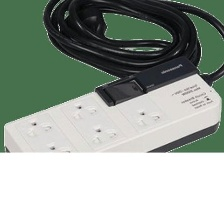three_eye_plug: (2, 53, 223, 176)
